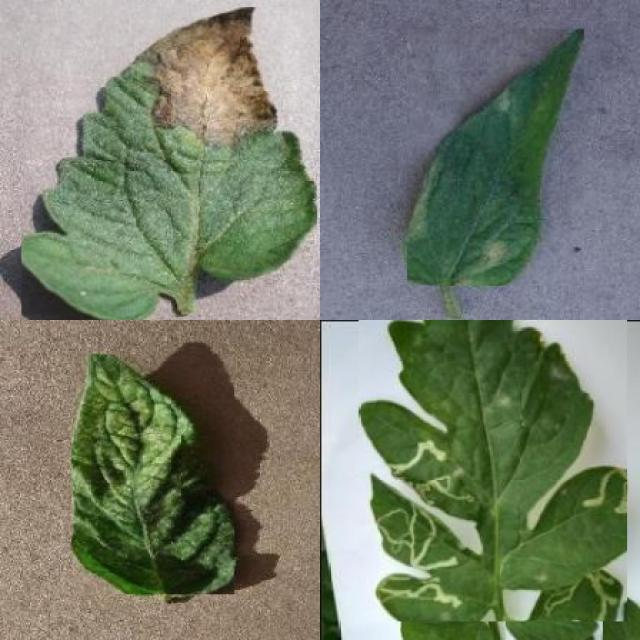Late Blight: (22, 7, 317, 320)
Leaf Miner: (359, 320, 627, 621), (506, 561, 604, 640)
Leaf Mold: (407, 29, 584, 285)
Spider Mites: (72, 354, 235, 594)
